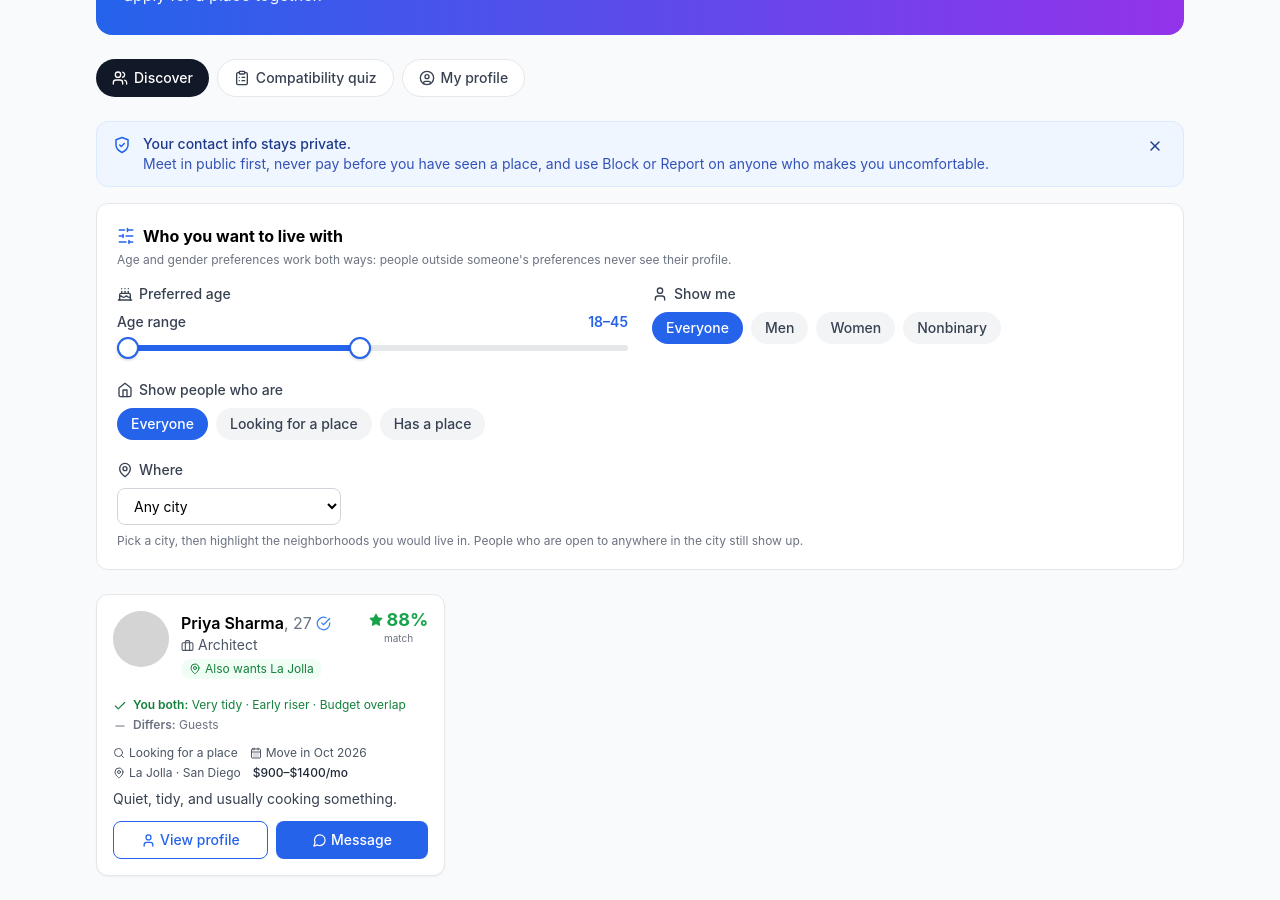
Test: HousematesHub › opens the profile view with the match breakdown and both actions
(page scrolled)
Expected: the heading "Priya Sharma, 27" is shown, [181,611,312,635]
Click the button named "view profile". click: point(141, 639)
box: [96,594,445,876]
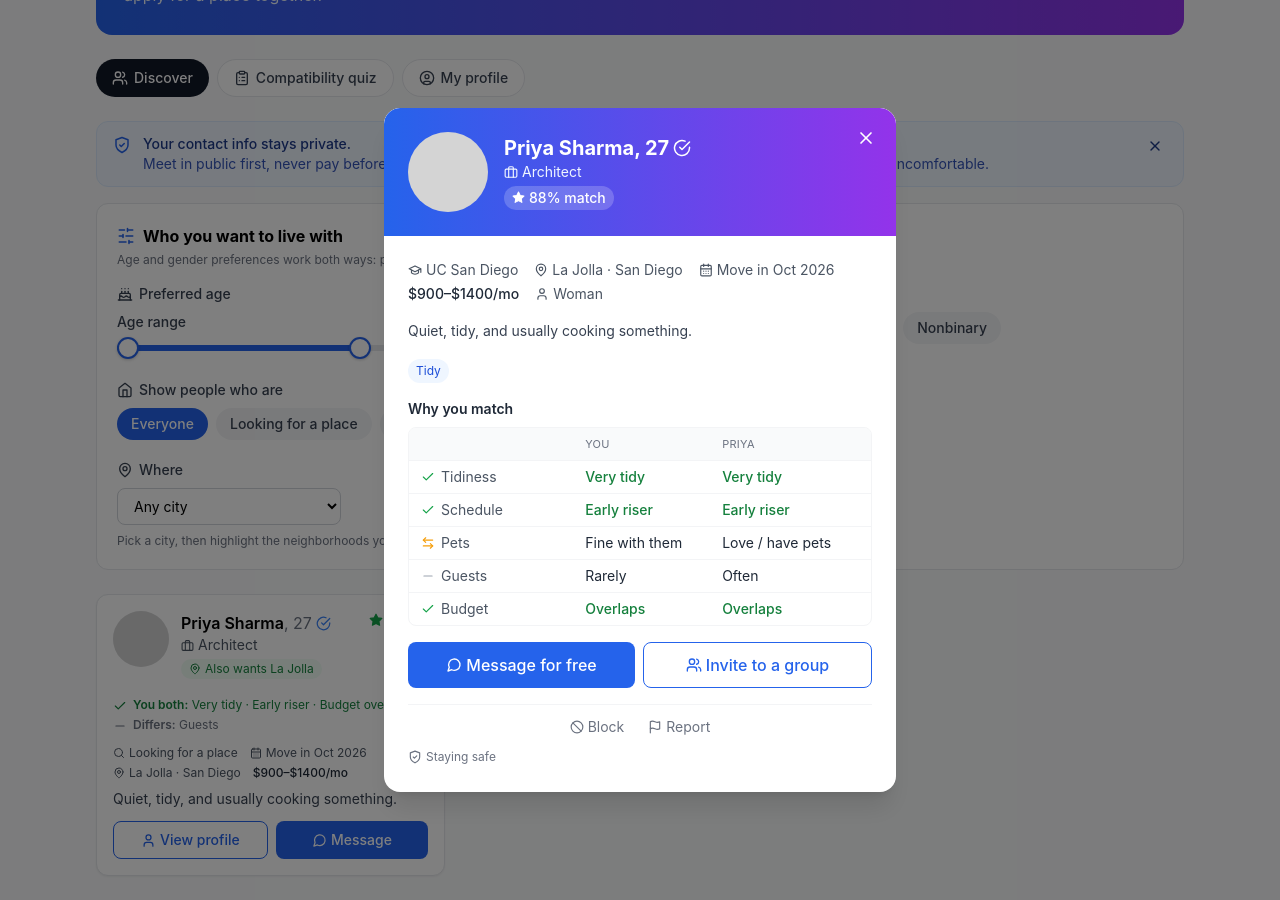
Expected: the dialog shows "Priya Sharma"
Expected: the dialog shows "88% match"
Expected: the dialog shows "Why you match", [408,400,513,417]
